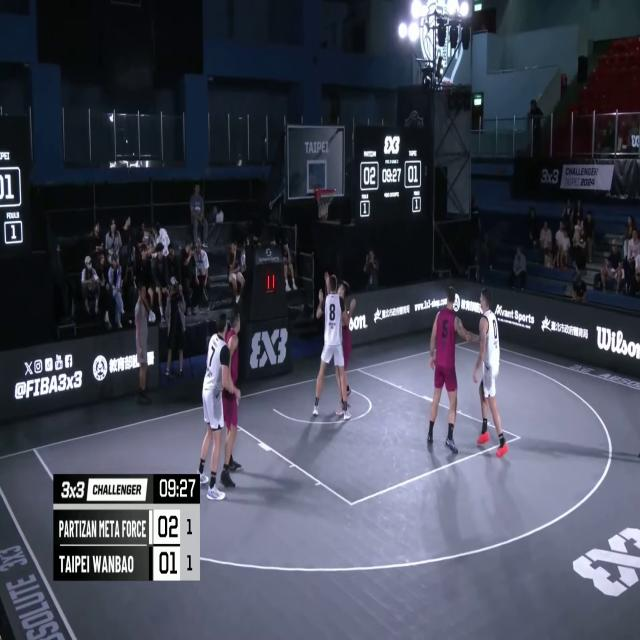ball: (318, 200, 332, 225)
hoop: (314, 184, 336, 223)
player: (427, 284, 474, 458), (200, 312, 237, 501), (471, 286, 508, 463), (212, 307, 244, 488), (314, 274, 352, 424), (322, 265, 356, 418)
